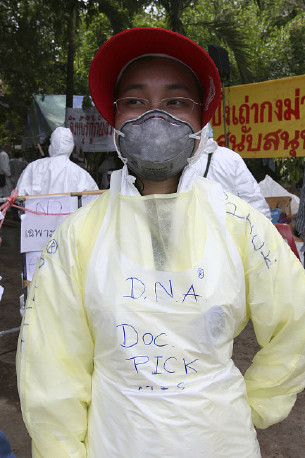face_mask: (117, 64, 200, 179)
